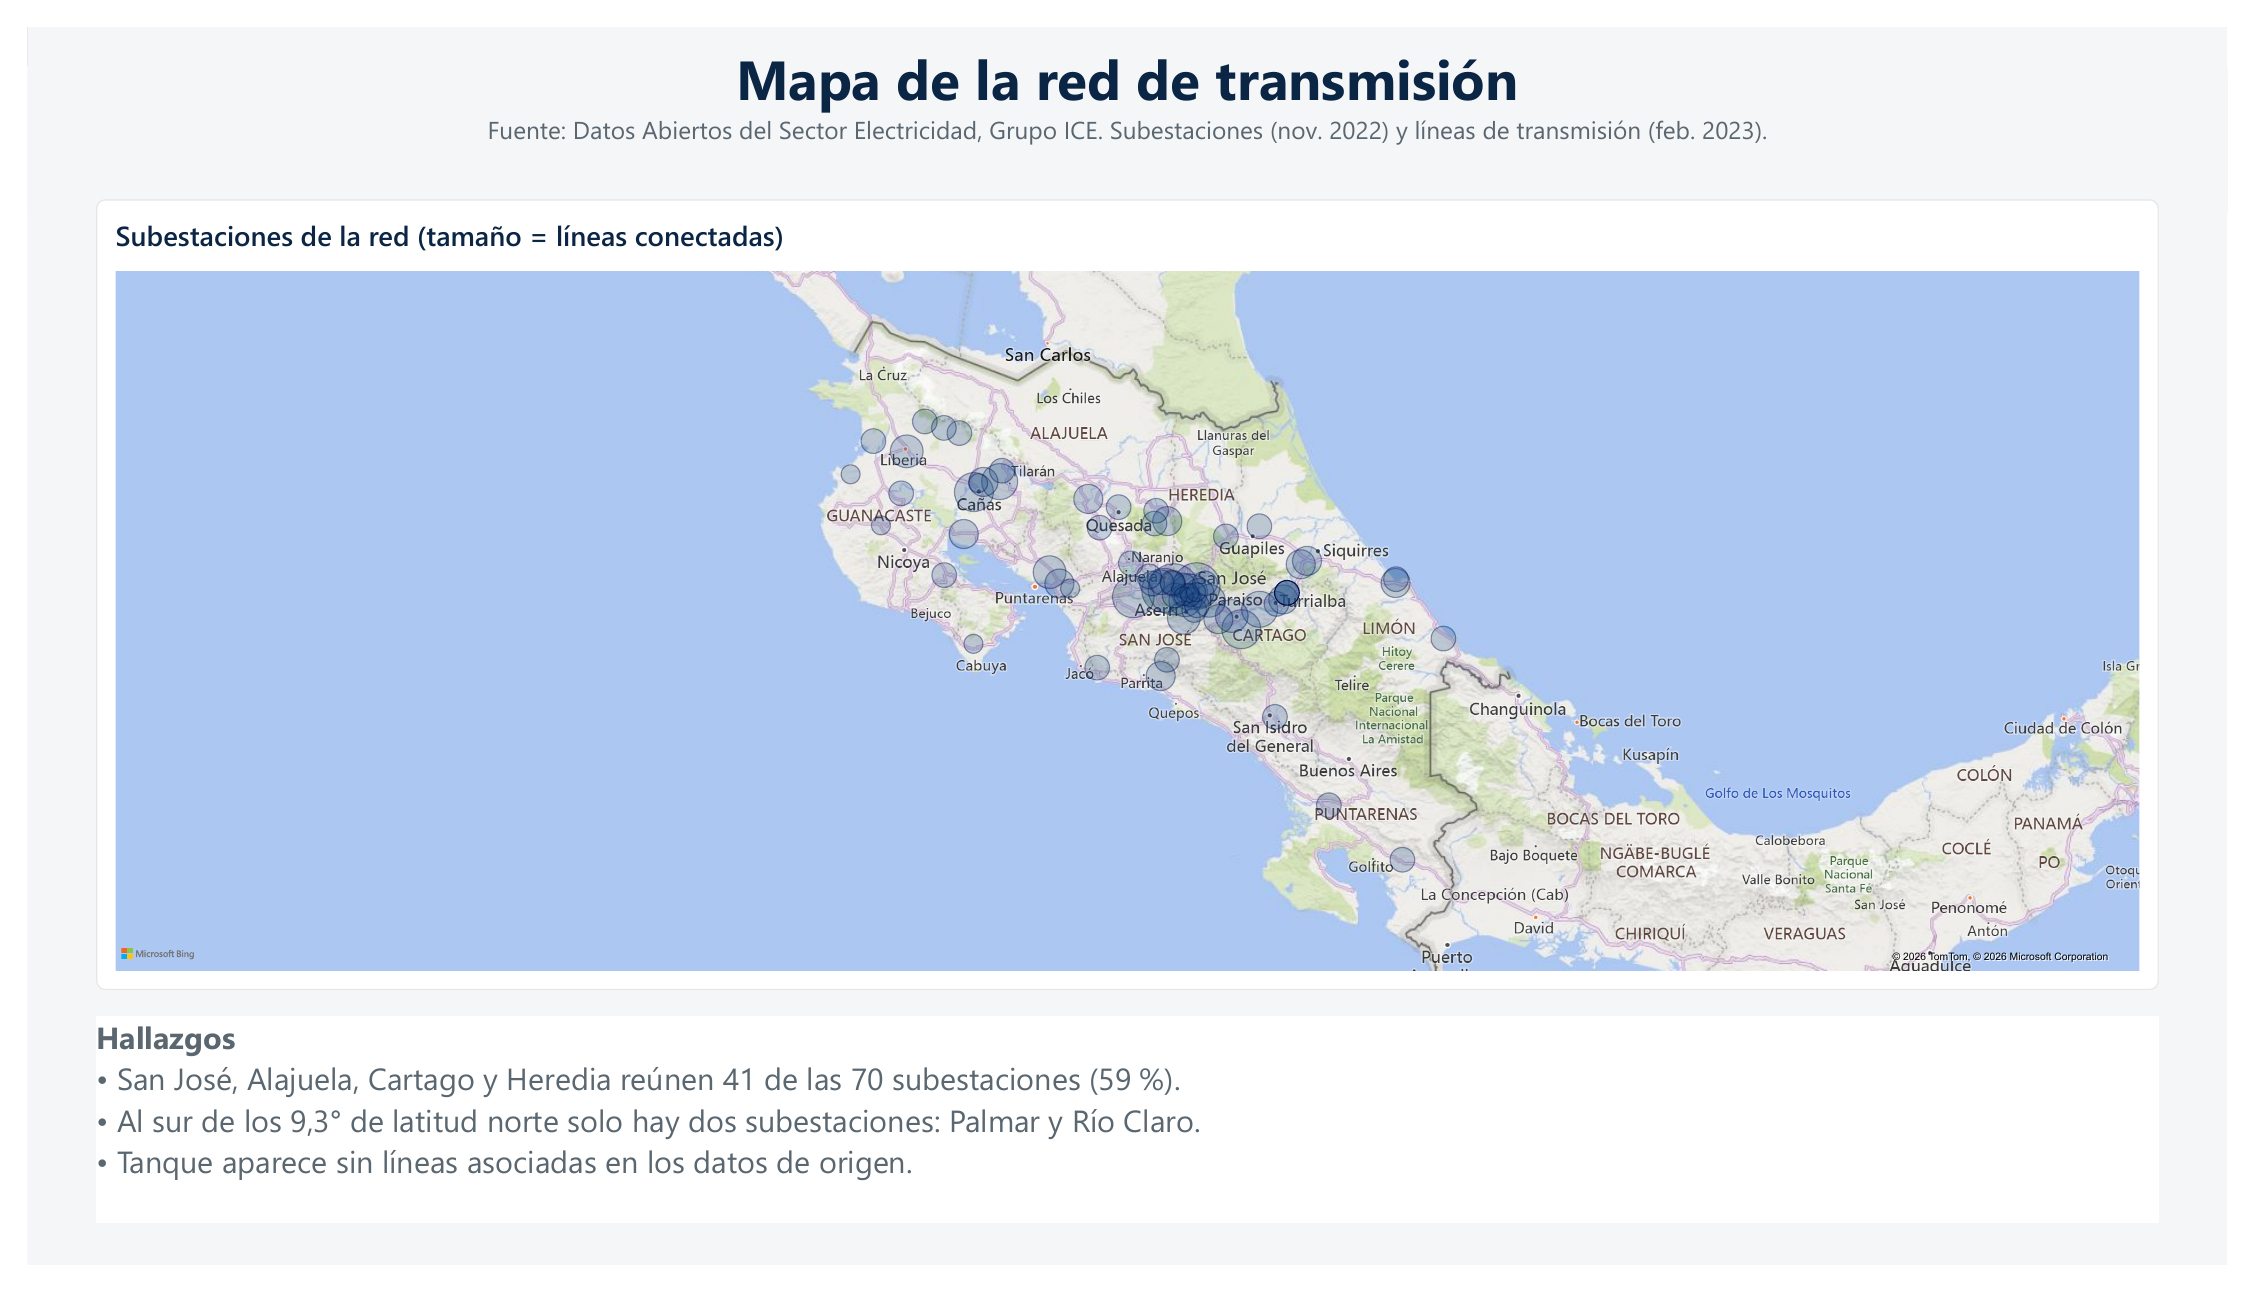

The page's visual inventory and layout, read from the dashboard file:
{"tool":"powerbi","page":{"name":"Mapa","canvas":[1920,1080],"ordinal":2},"visuals":[{"type":"textbox","box":[60,12,1800,64],"z":6000},{"type":"textbox","box":[60,75,1800,36],"z":7000},{"type":"textbox","box":[60,863,1800,180],"z":8000},{"type":"map","title":"Subestaciones de la red (tamaño = líneas conectadas)","fields":{"Size":["_Medidas.Líneas conectadas"],"X":["dim_subestaciones.longitud"],"Y":["dim_subestaciones.latitud"]},"box":[60,150,1800,690],"z":8001}]}

Visuals, with their boxes in screenshot pixels (x1, y1, x2, y2), scaled from the page's 1920x1080 canvas onto the 2255x1293 screenshot:
textbox: {"left": 70, "top": 14, "right": 2185, "bottom": 91}
textbox: {"left": 70, "top": 90, "right": 2185, "bottom": 133}
textbox: {"left": 70, "top": 1033, "right": 2185, "bottom": 1249}
"Subestaciones de la red (tamaño = líneas conectadas)" map: {"left": 70, "top": 180, "right": 2185, "bottom": 1006}
